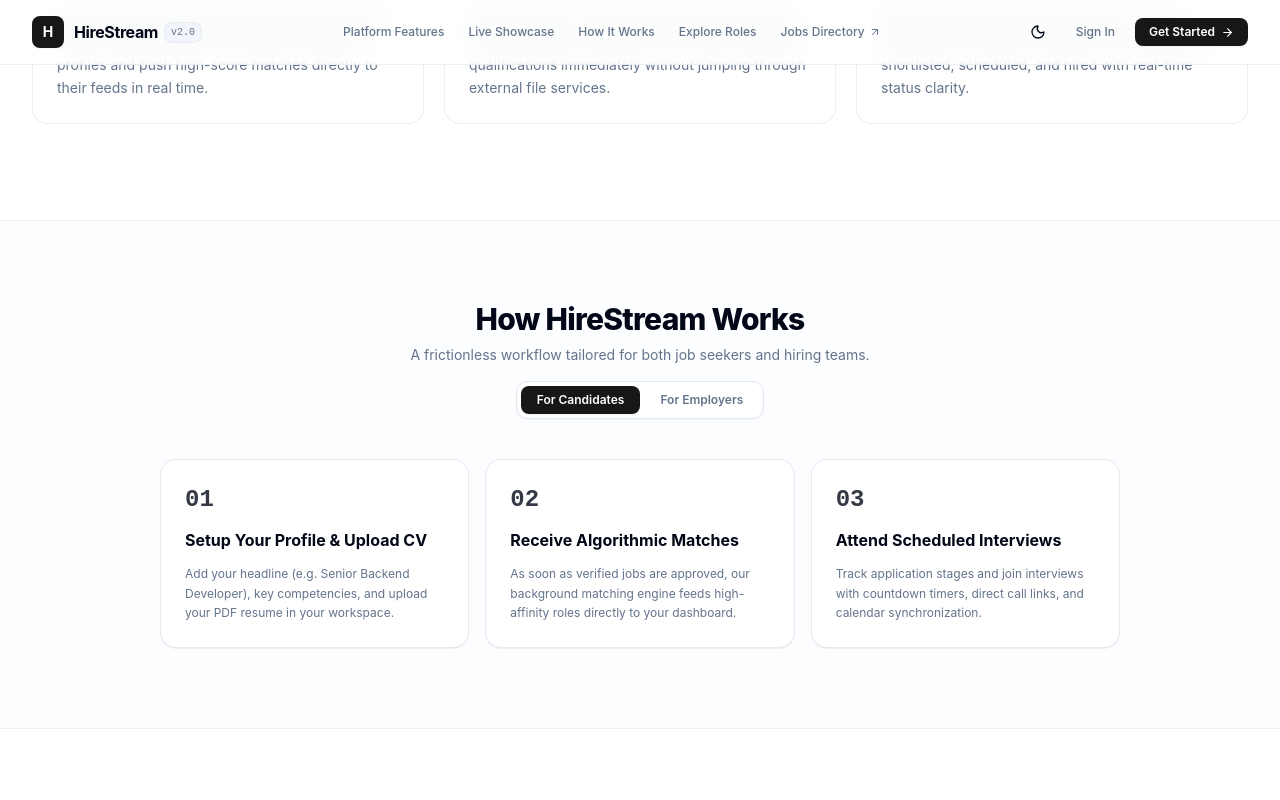
Test case: LandingPage › switches between candidate and employer flow tabs in How It Works
(page scrolled)
Expected: the heading "Setup Your Profile & Upload CV" is shown, [185,528,444,552]
# Switch to for employers
Click the button "For Employers": point(702, 400) [644,386,759,414]
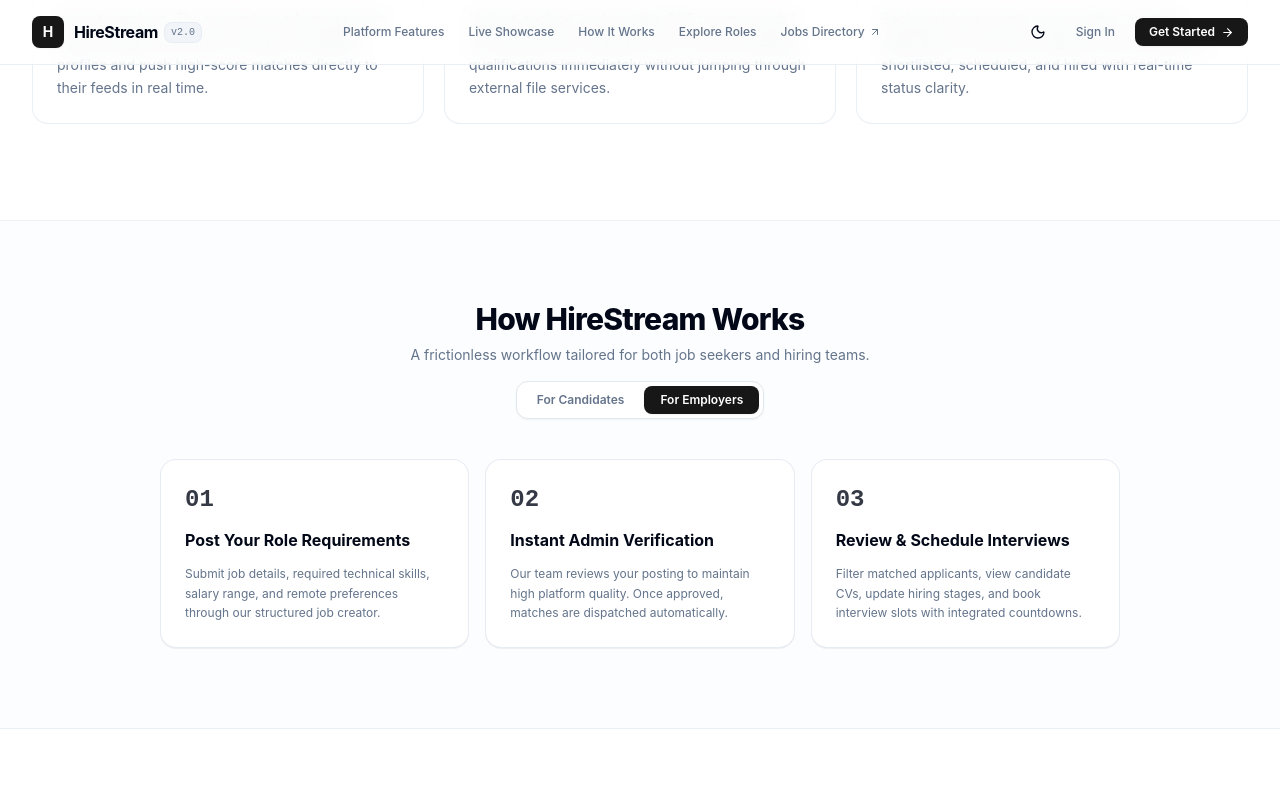
Expected: the heading "Post Your Role Requirements" is shown, [185,528,444,552]
Expected: the heading "Instant Admin Verification" is shown, [510,530,714,550]
